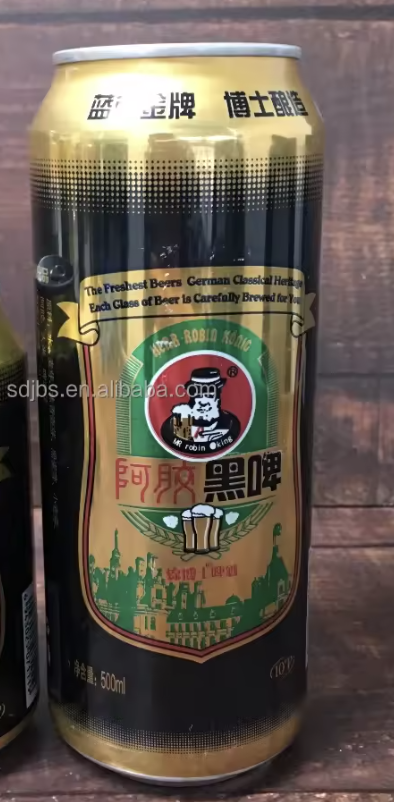beer-can: (29, 42, 325, 786), (0, 296, 41, 754)
